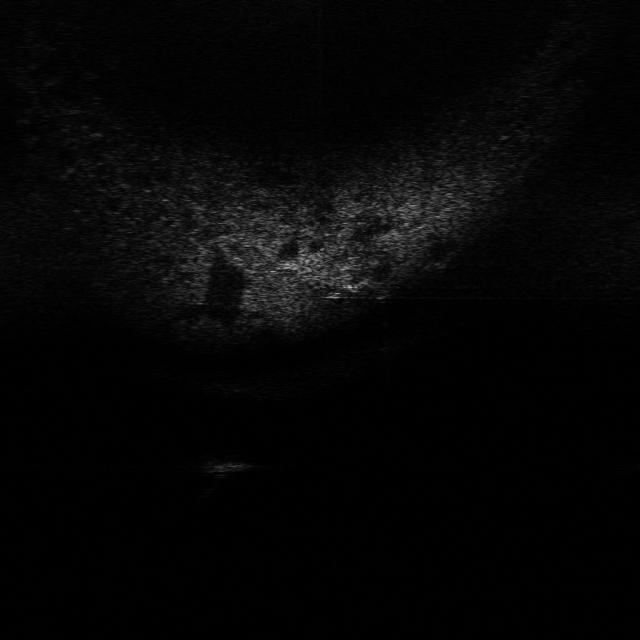ball: (194, 450, 256, 479)
cube: (190, 447, 254, 465)
